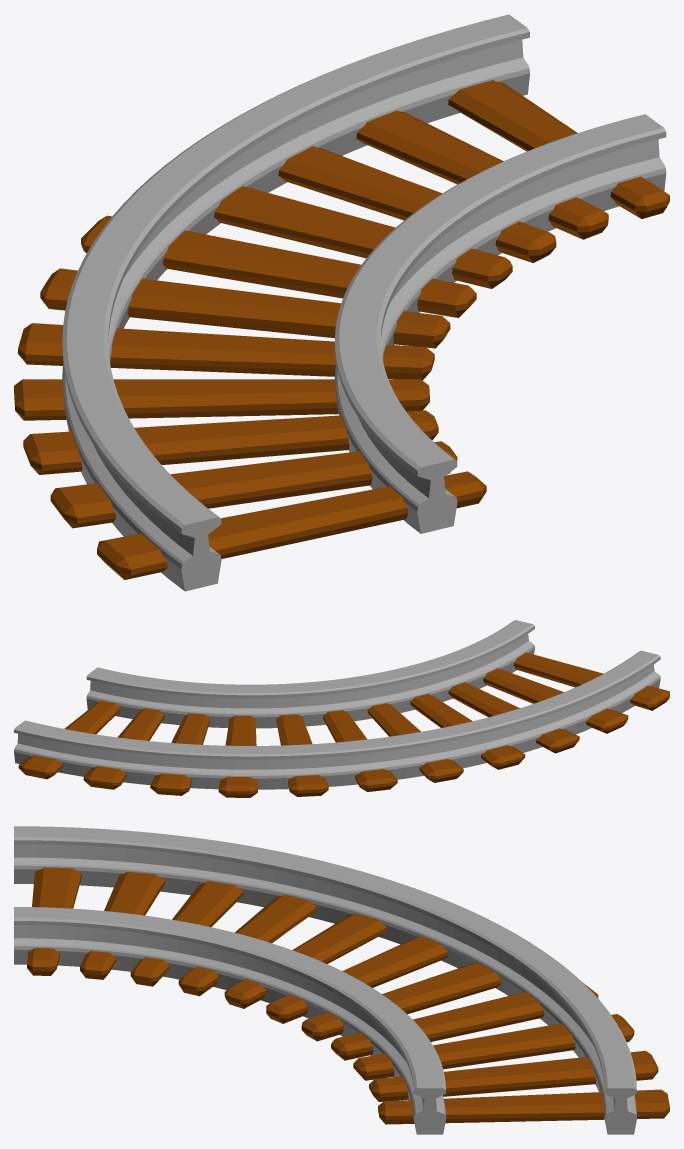
File: RayKisa90lik.fbx
The picture shows the model from 3 angles, top to bottom: view 1: azimuth 30°, elevation 25°; view 2: azimuth 150°, elevation 25°; view 3: azimuth 270°, elevation 25°; orthographic projection. The views are drawn at different scales.
Visible parts, largest first — view 1: Railroad14.001; view 2: Railroad14.001; view 3: Railroad14.001.
Part boxes in pixels (box(x1,y1,x2,y2)): Railroad14.001: box(14, 14, 669, 591); Railroad14.001: box(14, 620, 669, 797); Railroad14.001: box(14, 826, 669, 1134).
Size of the model in its own units: 2.32 by 0.1816 by 2.32.
